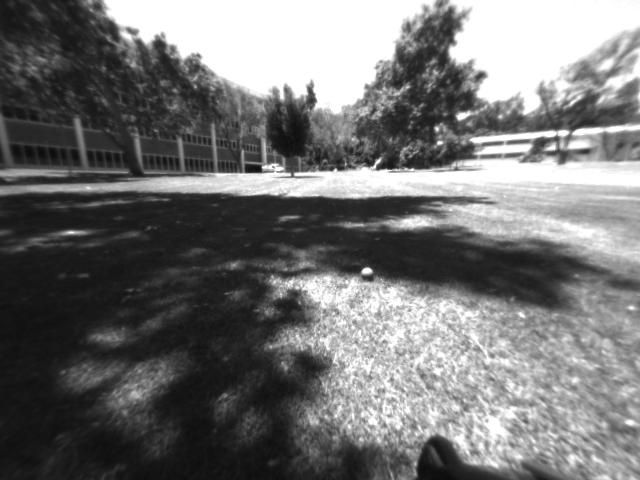dogtoy: (358, 265, 378, 281)
